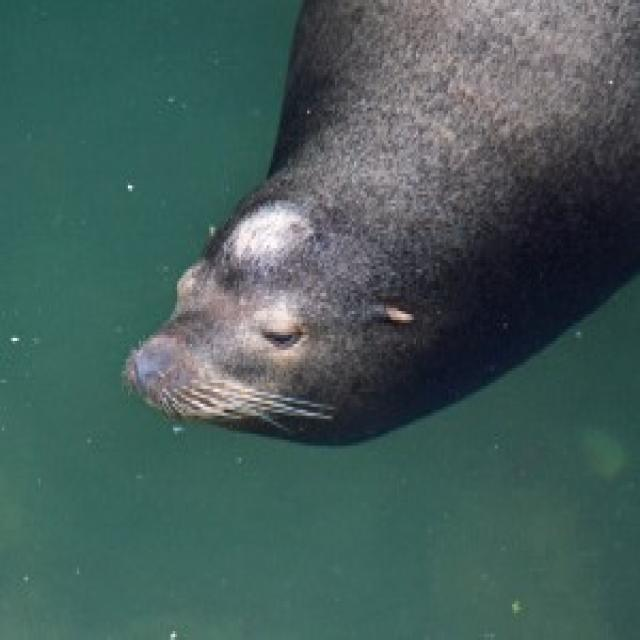Seal: (109, 0, 640, 449)
